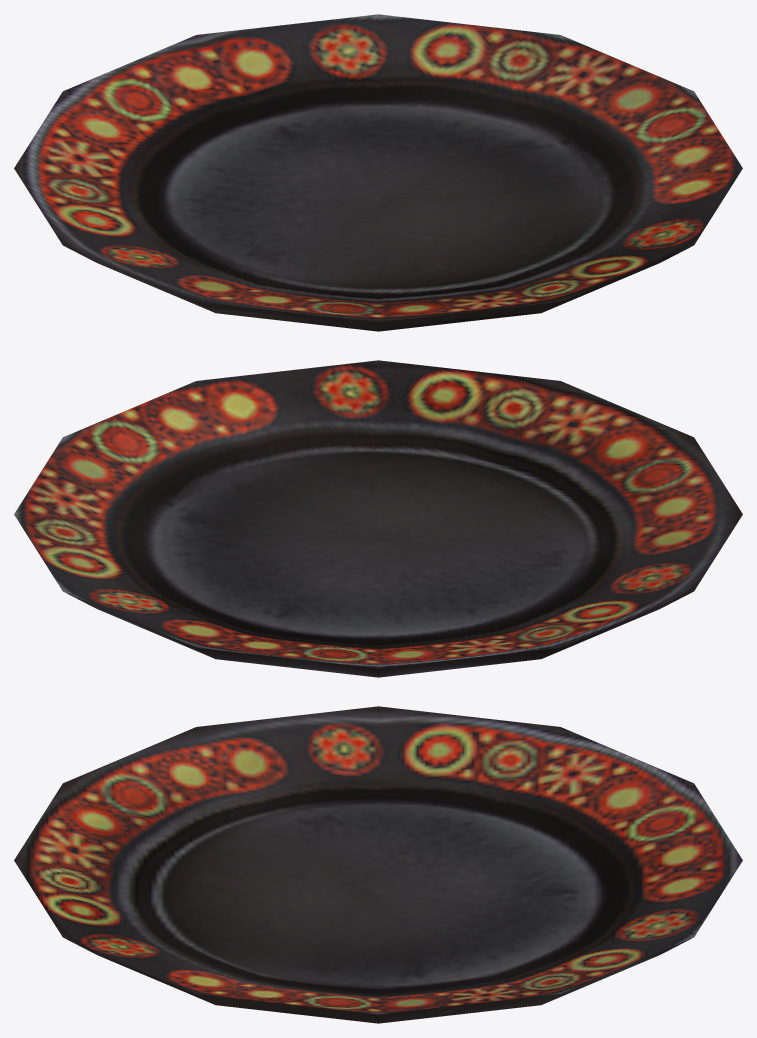
The model's file is dish-1.FBX.
3 renders of one model, top to bottom at view 1: azimuth 30°, elevation 25°; view 2: azimuth 150°, elevation 25°; view 3: azimuth 270°, elevation 25°, orthographic.
Parts seen in each view (by area): view 1: Line01; view 2: Line01; view 3: Line01.
Boxes of the visible parts, x1,y1,x2,y2 form: Line01: (14,14,742,331); Line01: (14,360,742,677); Line01: (14,706,742,1023).
Bounding box in the file's own units: 16.71 × 1.85 × 16.71.
